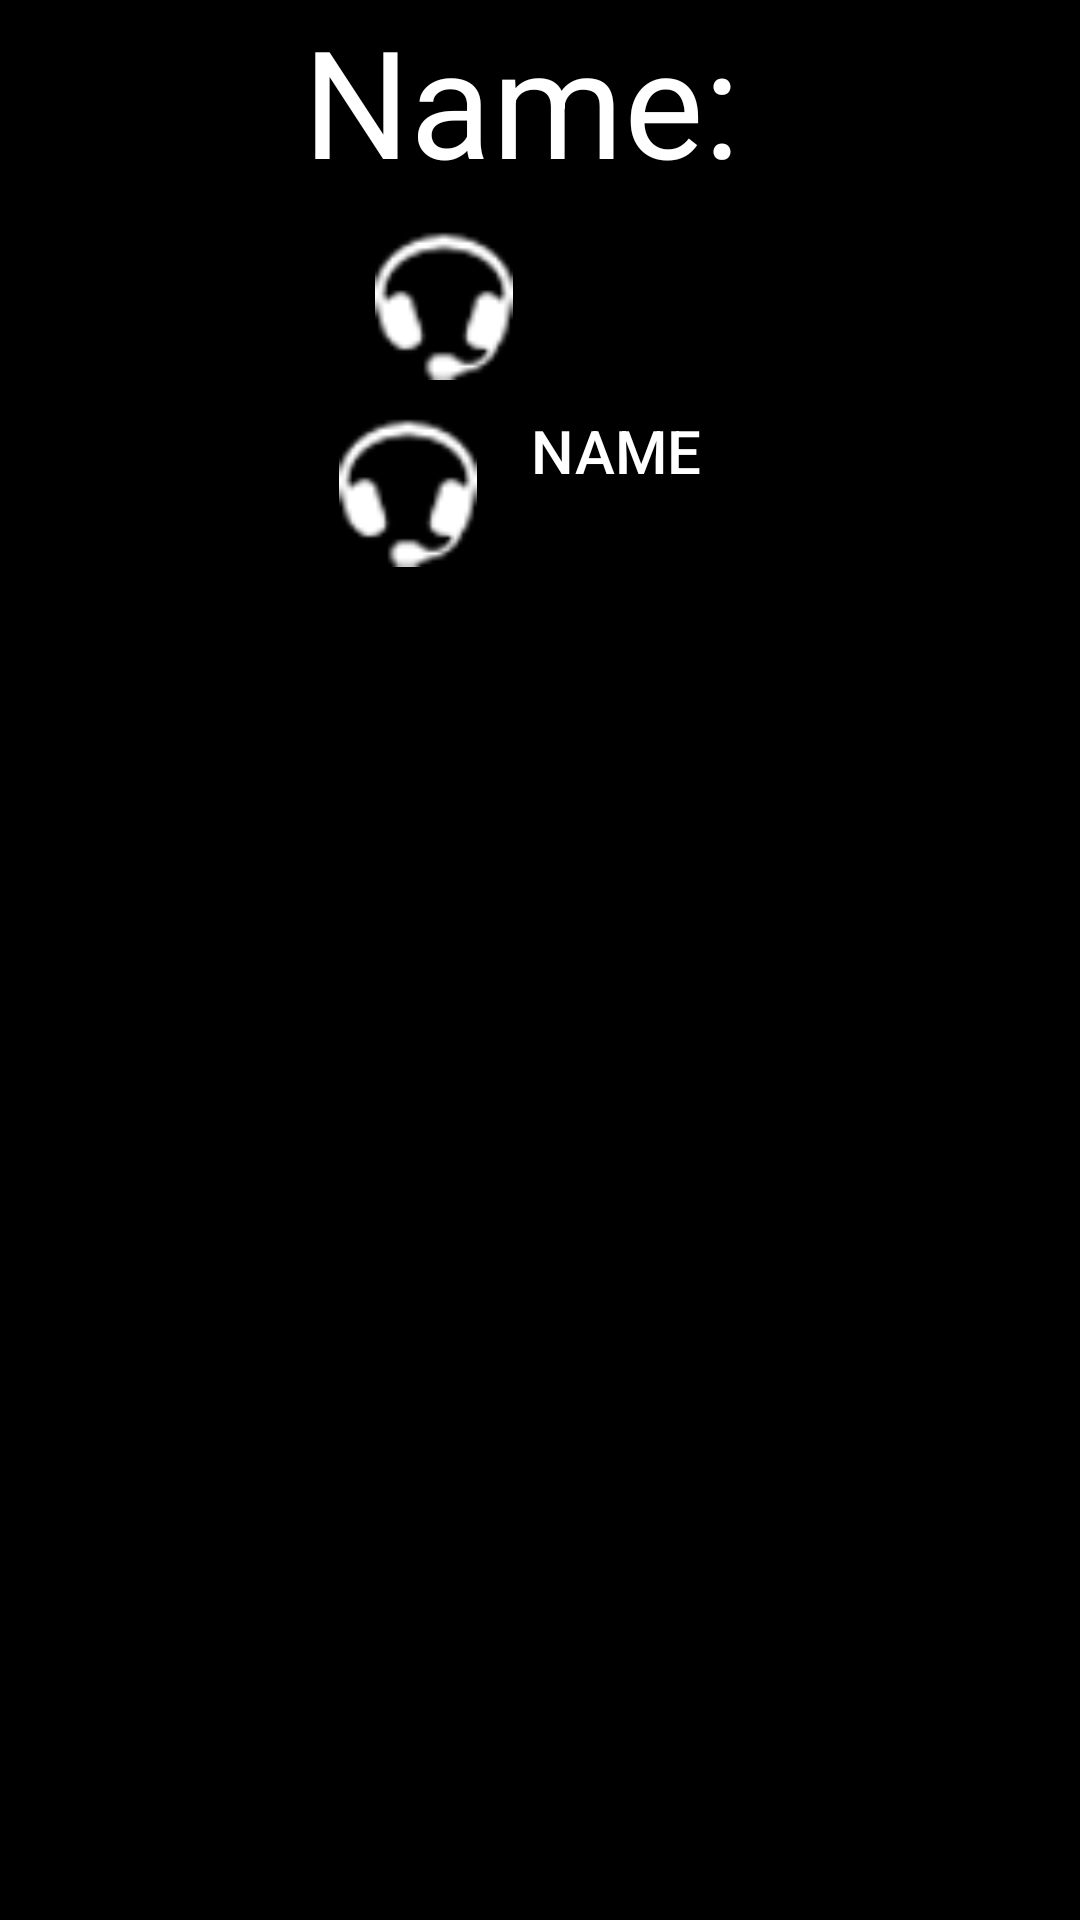

Icon click points for this 1080×1920 phone screenshot, format [x,y]:
headset: [444,306], [408,493]
